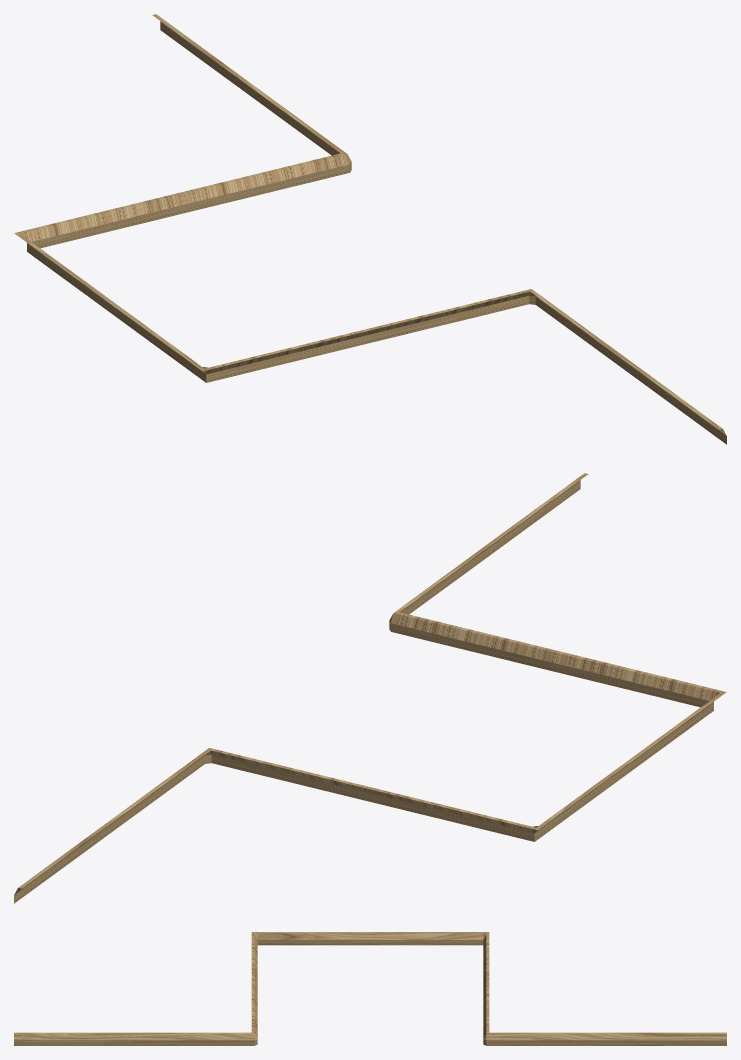
Rendered from SkirtingBoardGroundIndent001.FBX.
3 renders of one model, top to bottom at view 1: azimuth 30°, elevation 25°; view 2: azimuth 150°, elevation 25°; view 3: azimuth 270°, elevation 25°, orthographic. The views are drawn at different scales.
Visible parts, largest first — view 1: SkirtingBoardGroundIndent001; view 2: SkirtingBoardGroundIndent001; view 3: SkirtingBoardGroundIndent001.
Boxes of the visible parts, x1,y1,x2,y2 form: SkirtingBoardGroundIndent001: (14,14,726,444); SkirtingBoardGroundIndent001: (14,473,726,903); SkirtingBoardGroundIndent001: (14,932,726,1045).
Bounding box in the file's own units: 205 × 10 × 600.
